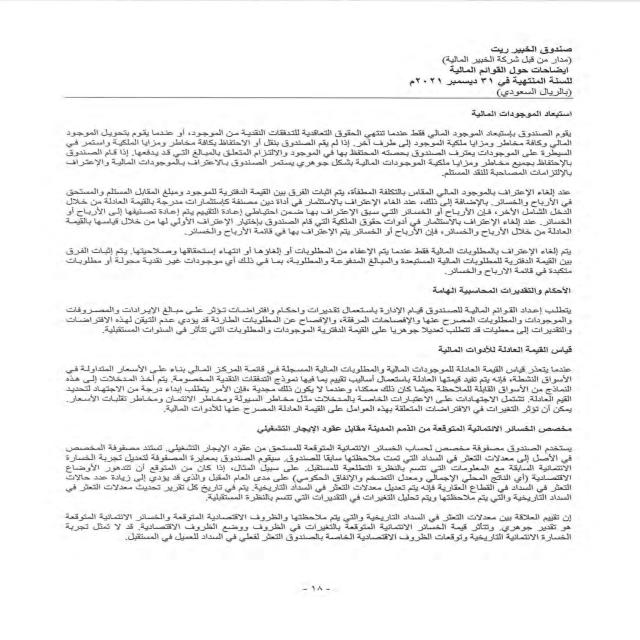notes: (446, 66, 578, 75)
text: (41, 103, 578, 557)
